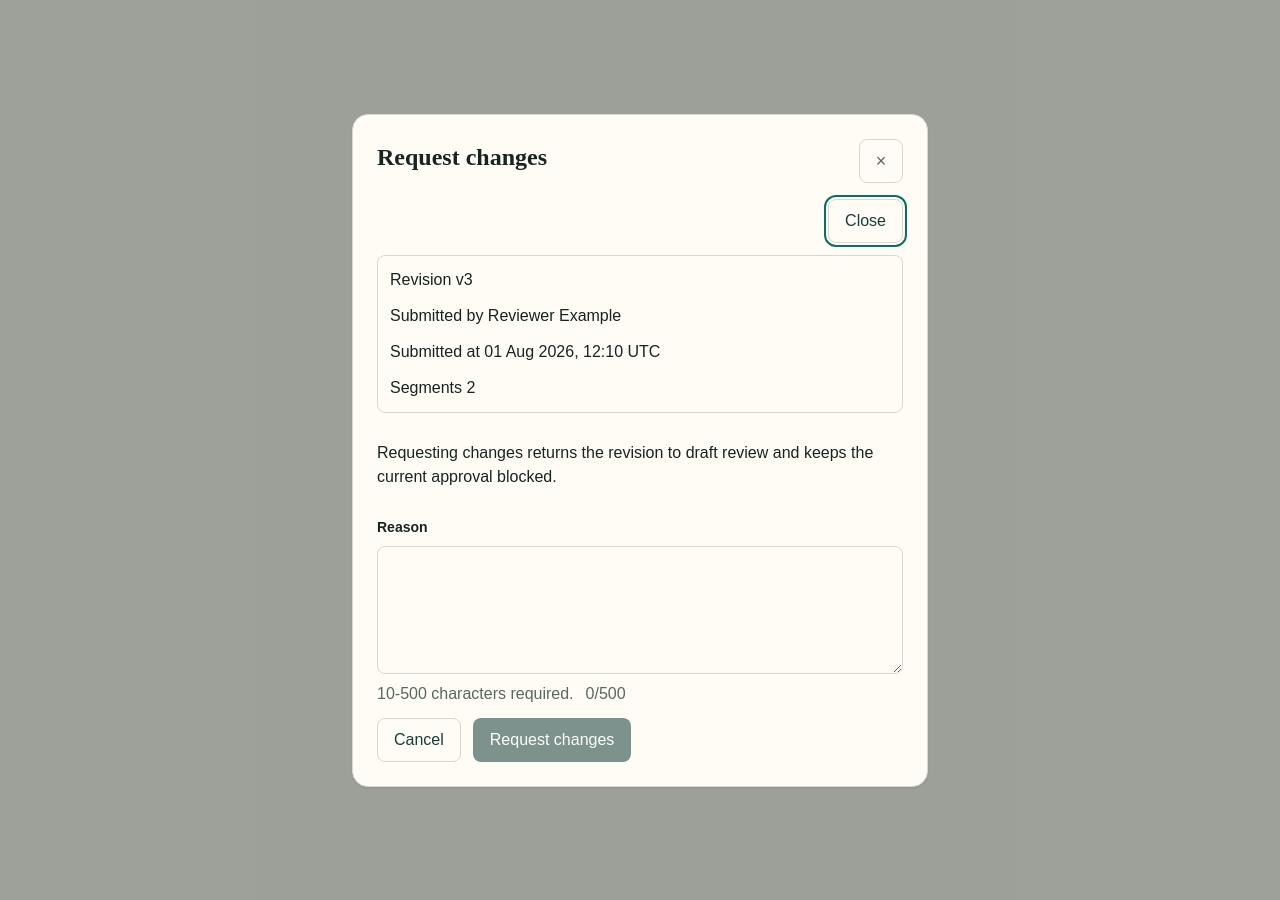
Test: DecisionDialog › preserves the entered reason after an in-place network error
Step 1. Type "Please add the missing governed context." into the text box labelled "Reason" → (640, 610), box 377,546 -> 903,674
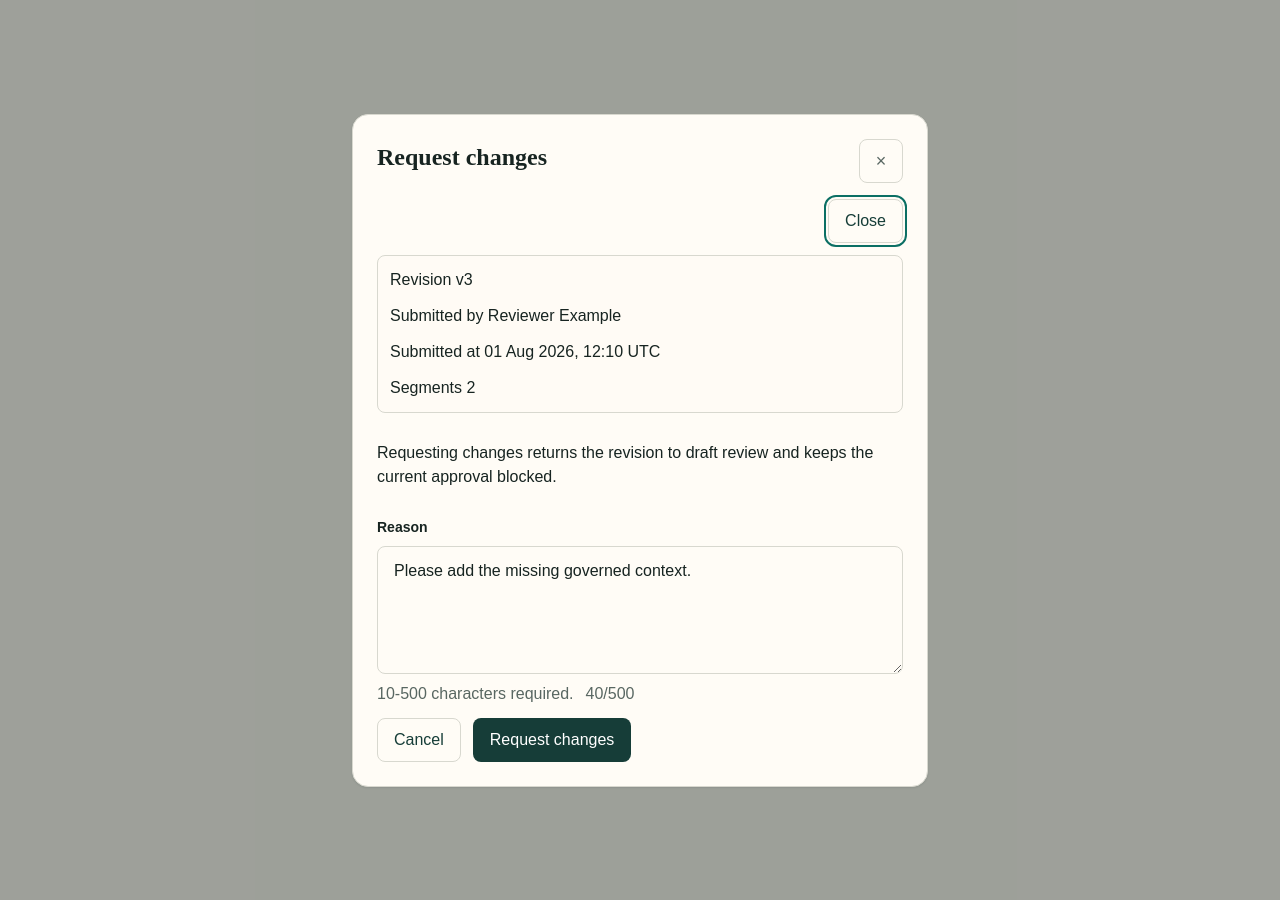
Step 2. Click the button "Request changes" → click(552, 740), box 473,718 -> 631,762
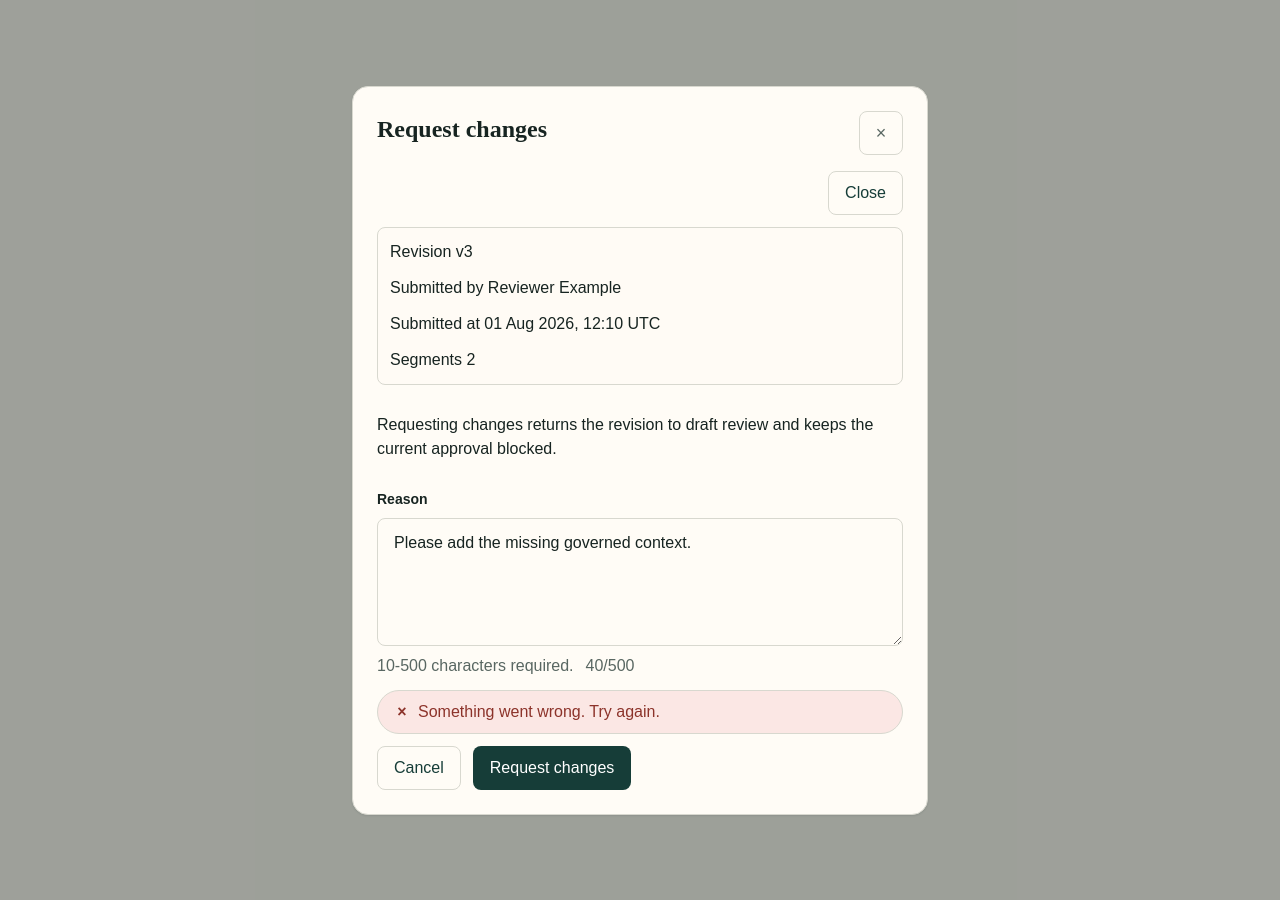
expect the text "Something went wrong. Try again." is shown: met, box 418,700 -> 660,724
